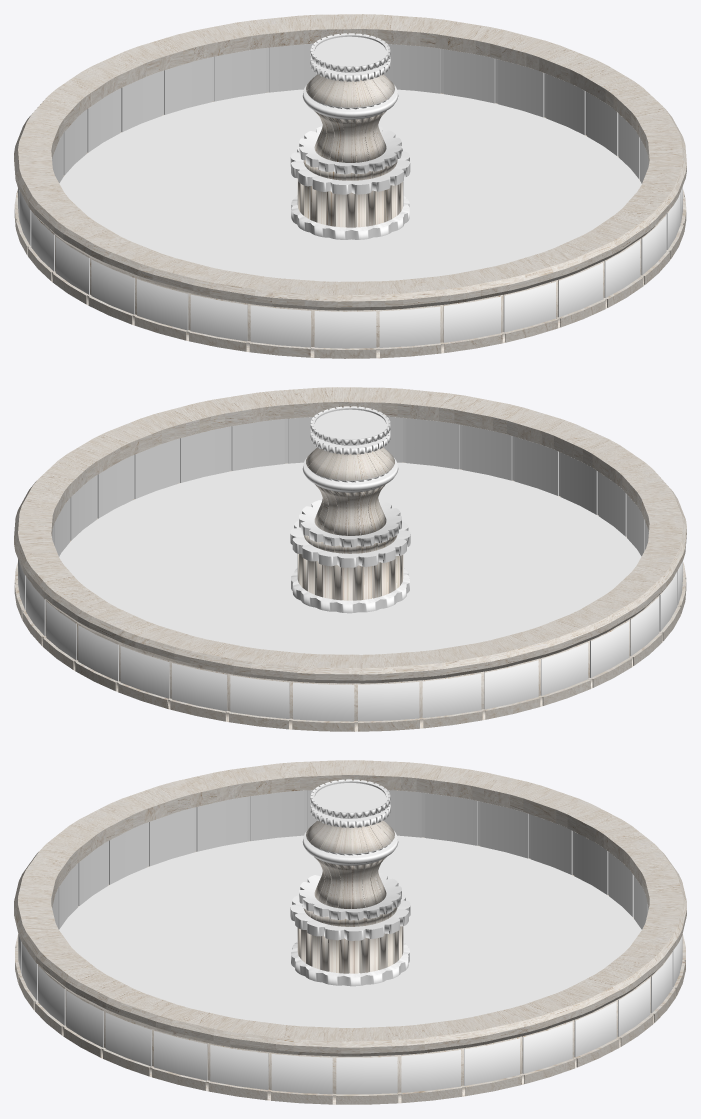
File: Fountain11.glb
3 renders of one model, top to bottom at view 1: azimuth 30°, elevation 25°; view 2: azimuth 150°, elevation 25°; view 3: azimuth 270°, elevation 25°, orthographic.
Visible parts, largest first — view 1: Цилиндр.002, Cylinder; view 2: Цилиндр.002, Cylinder; view 3: Цилиндр.002, Cylinder.
Part boxes in pixels (left/top/right/bottom): Цилиндр.002: left=14, top=33, right=686, bottom=358; Cylinder: left=14, top=14, right=686, bottom=310; Цилиндр.002: left=14, top=406, right=686, bottom=731; Cylinder: left=14, top=387, right=686, bottom=683; Цилиндр.002: left=15, top=779, right=685, bottom=1104; Cylinder: left=14, top=760, right=686, bottom=1056.
Size of the model in its own units: 35.2 by 9.62 by 35.2.
Materials: 3 (1 with a texture image).
